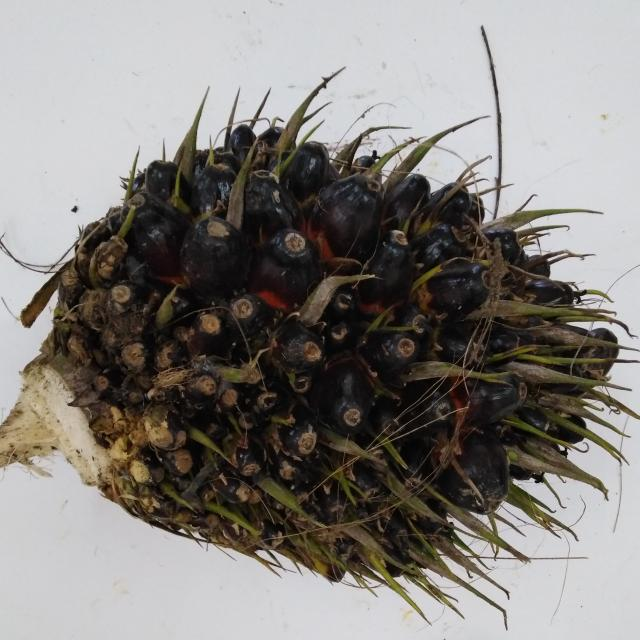FFB: (60, 117, 561, 591)
